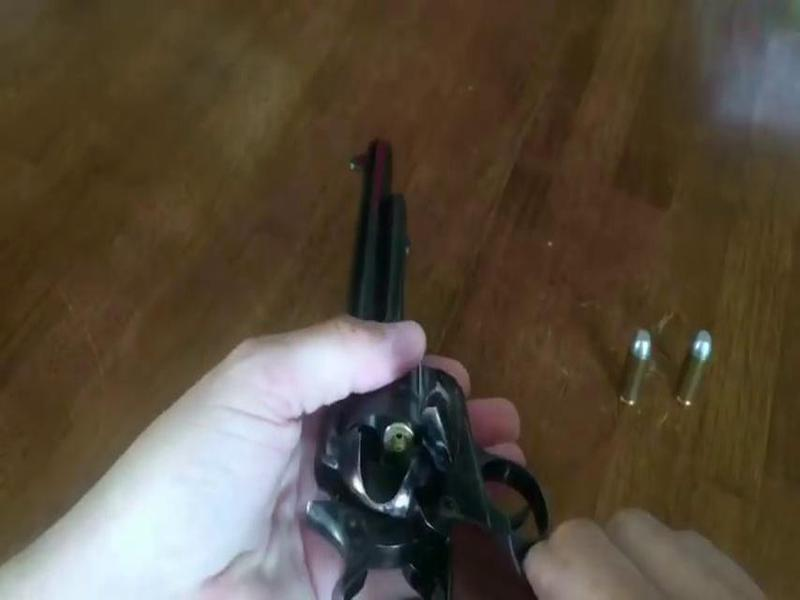Revolver: (287, 123, 534, 595)
